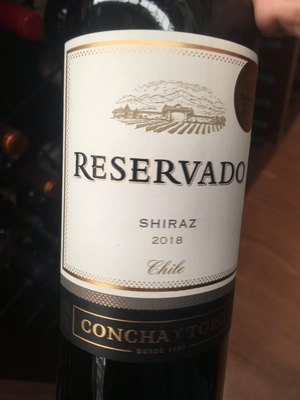reservado shiraz: (60, 8, 261, 399)
